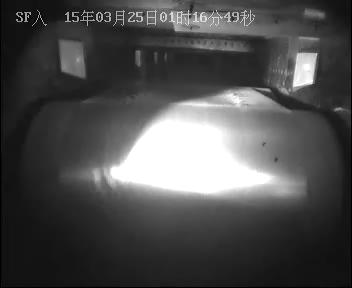wrinkled steel: (90, 160, 129, 198), (213, 85, 255, 115)
